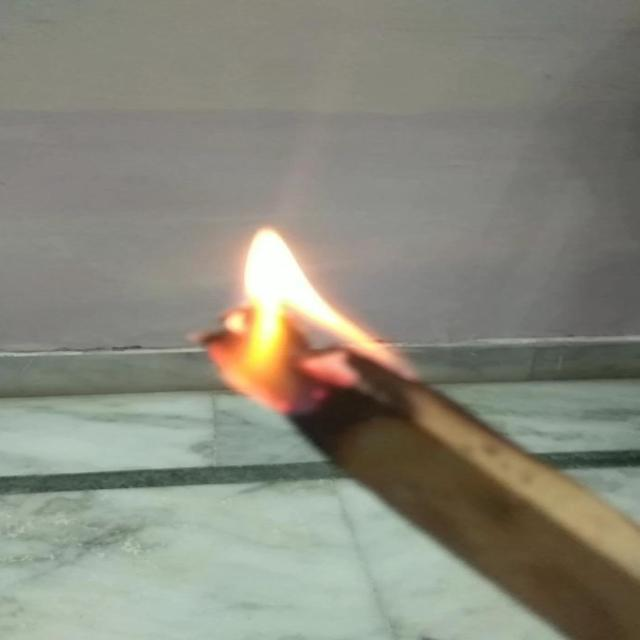smoke: (184, 222, 416, 412)
